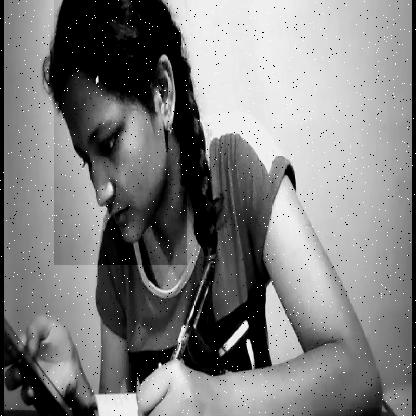Distracted: (54, 0, 187, 265)
